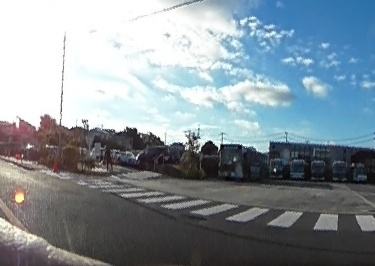person: (103, 139, 113, 169)
